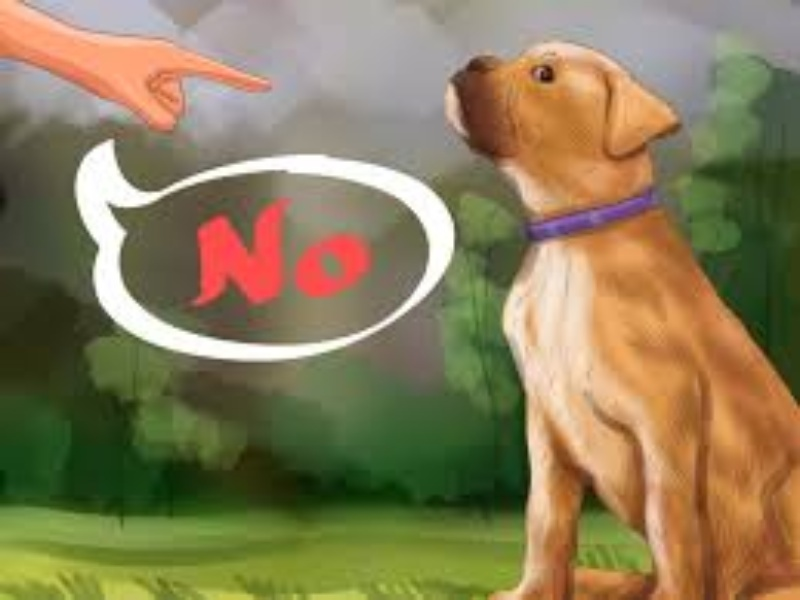dog: (442, 33, 798, 600)
